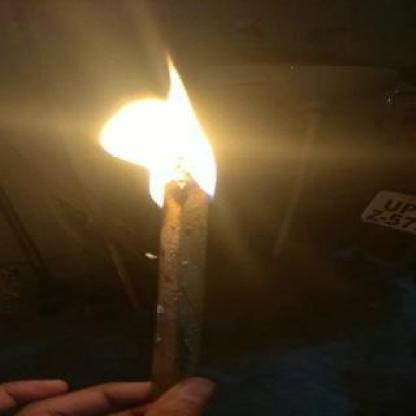Fire: (103, 46, 221, 215)
